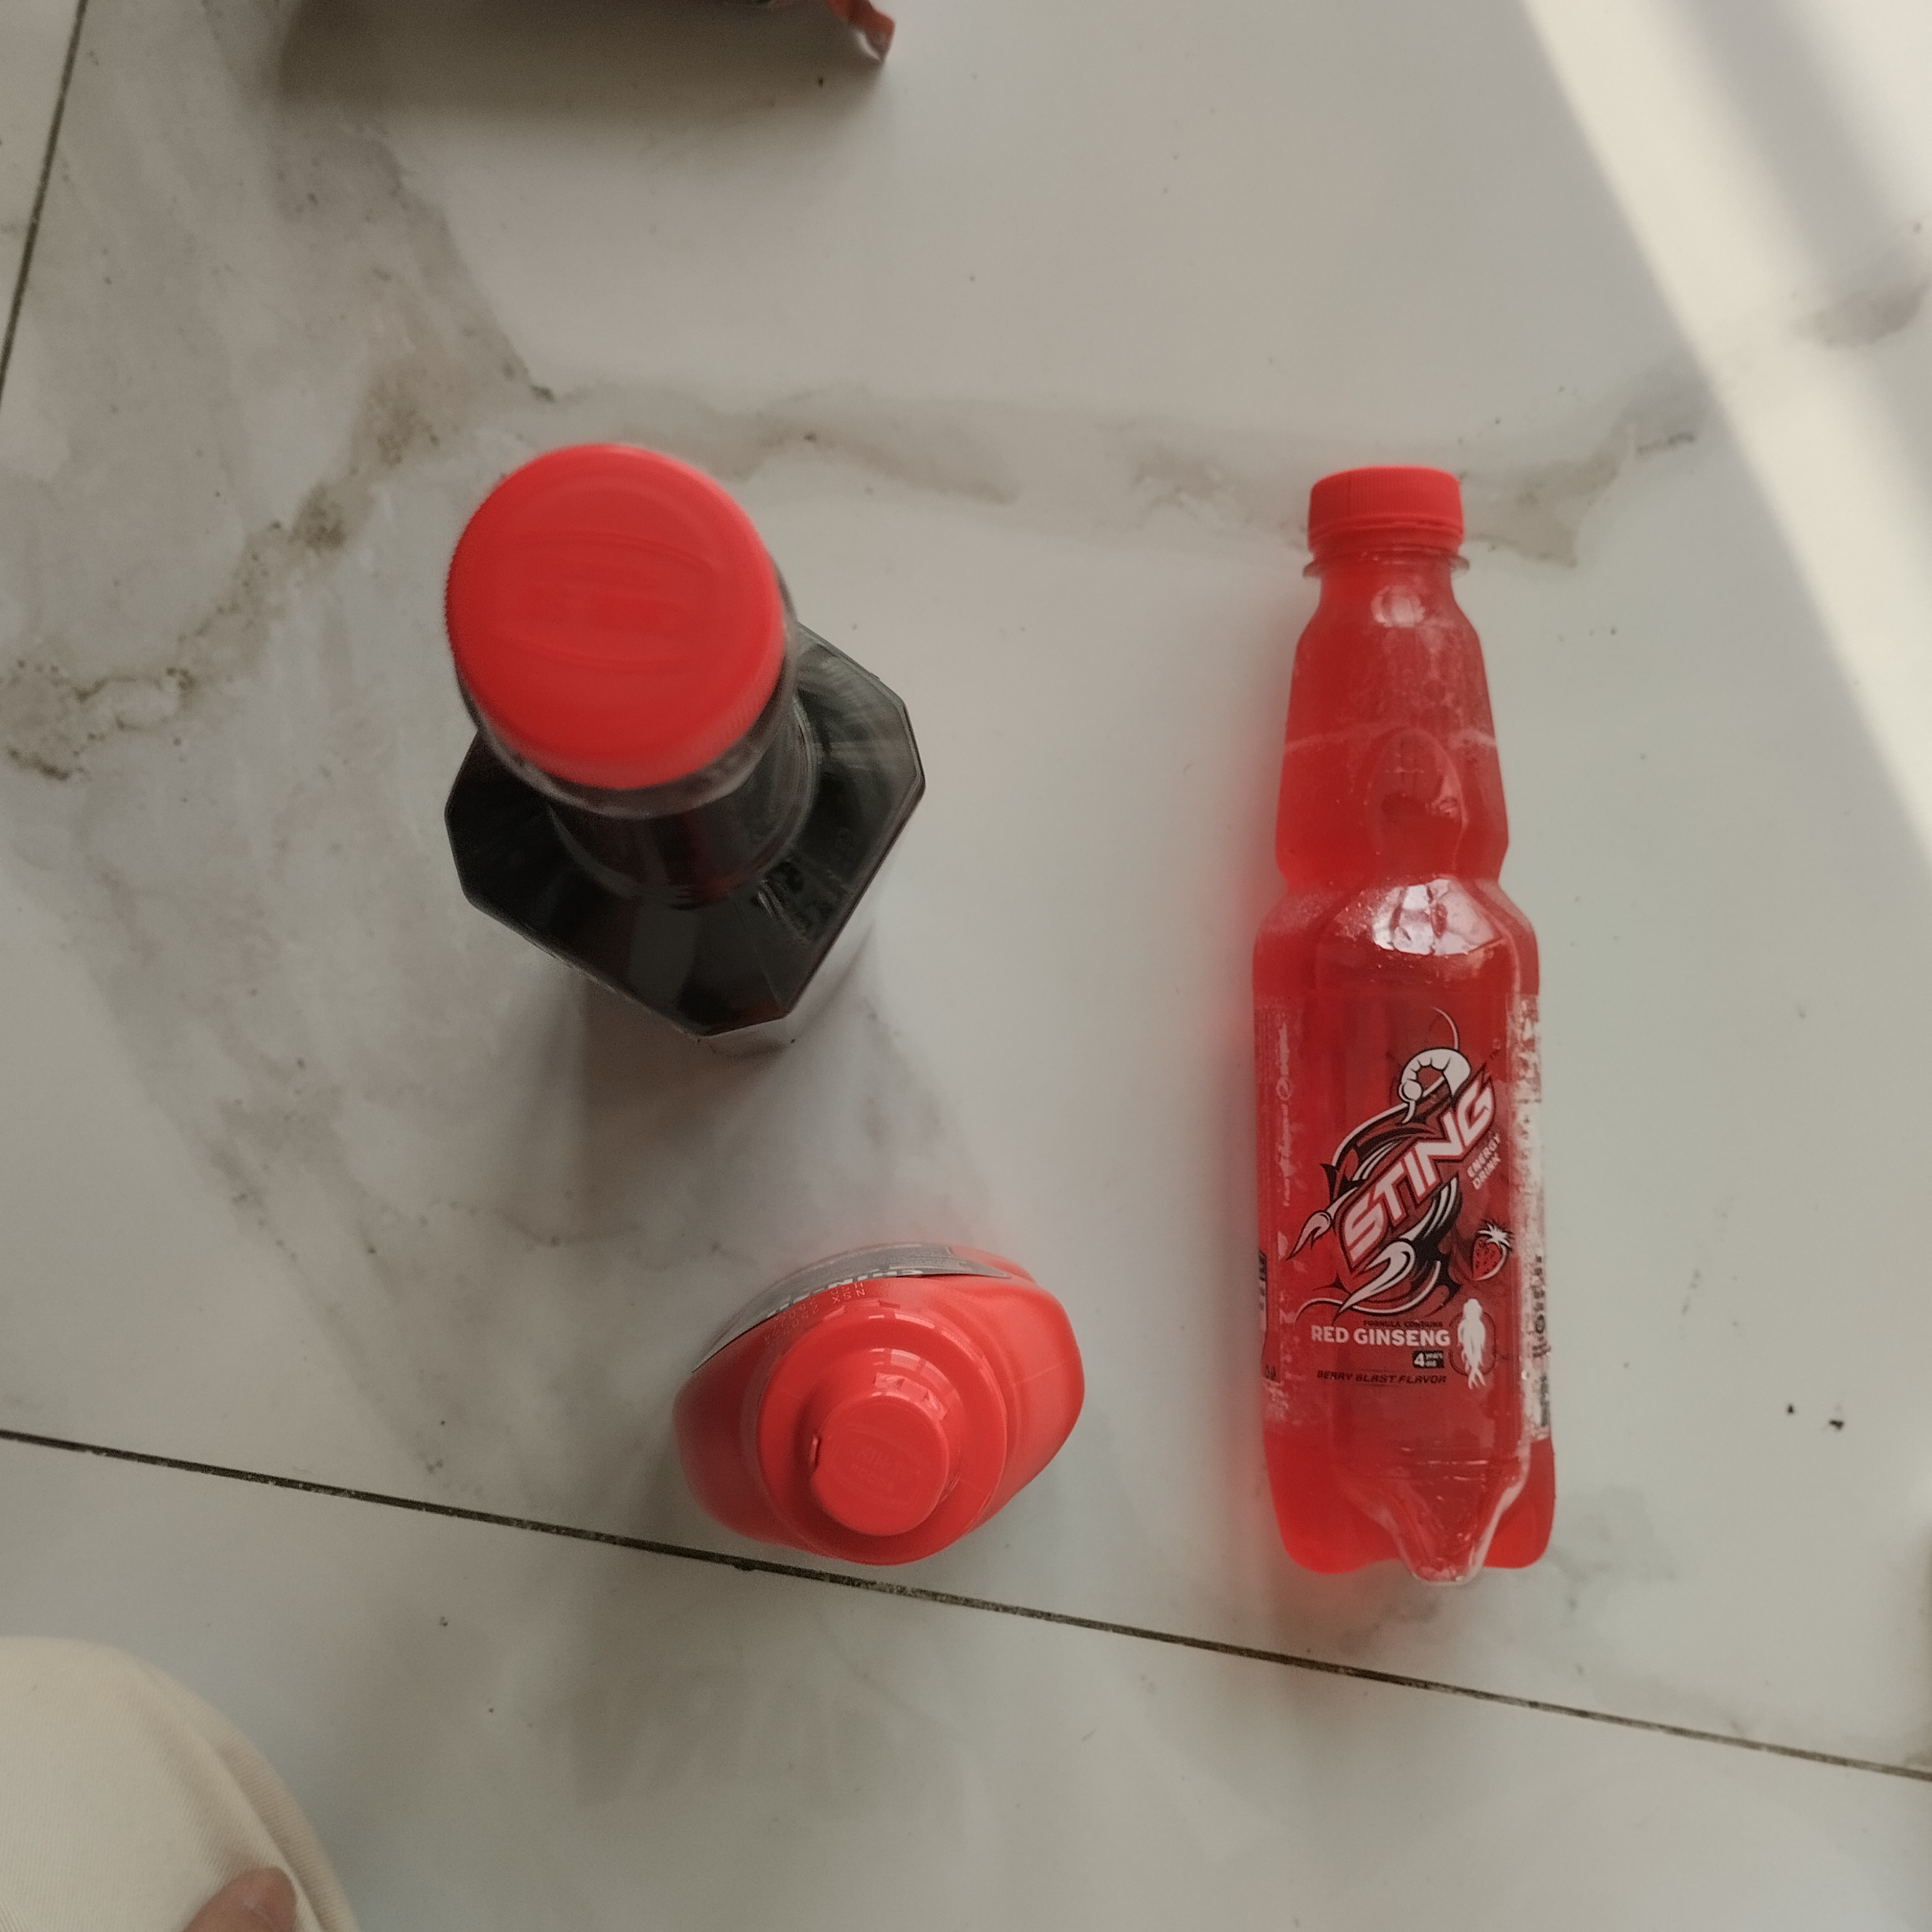Chinsu: (669, 1200, 1095, 1571)
Namngu: (426, 442, 954, 1074)
Sting: (1223, 465, 1589, 1601)
